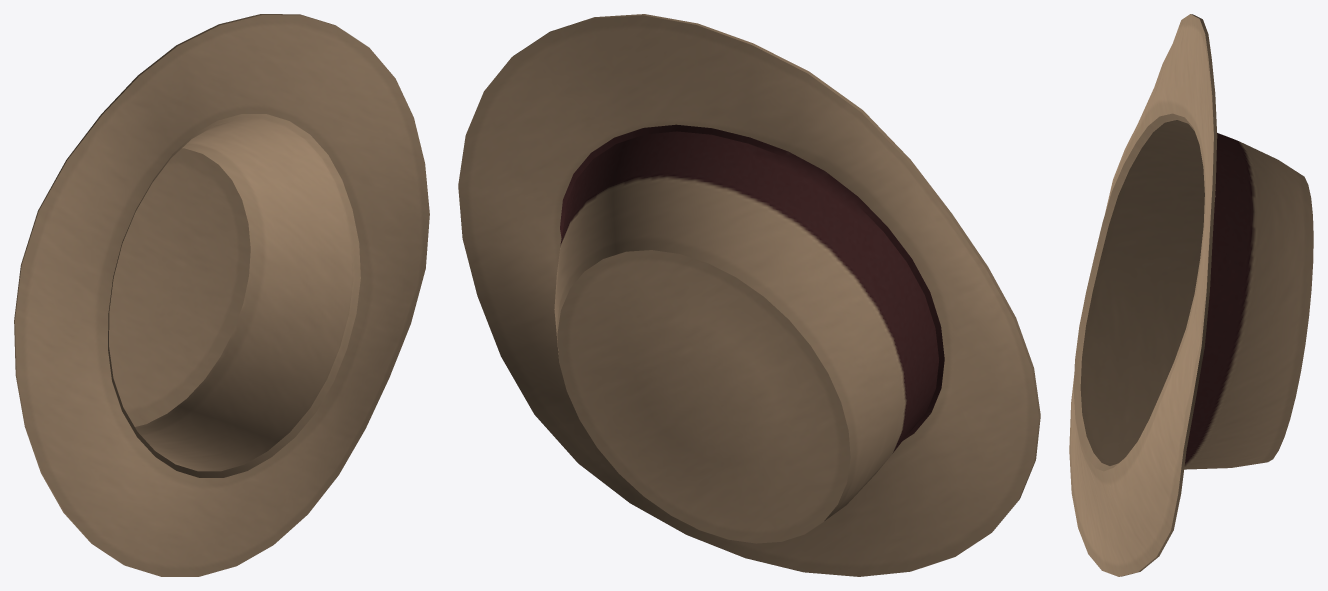
Rendered from hat.obj.
3 views of the same model, side by side, from view 1: azimuth 30°, elevation 25°; view 2: azimuth 150°, elevation 25°; view 3: azimuth 270°, elevation 25° (orthographic). The views are drawn at different scales.
Parts seen in each view (by area): view 1: dynamic; view 2: dynamic; view 3: dynamic.
Boxes of the visible parts, x1,y1,x2,y2 form: dynamic: [14, 14, 429, 576]; dynamic: [458, 14, 1040, 576]; dynamic: [1069, 14, 1313, 576].
Bounding box in the file's own units: 31.33 × 32.97 × 13.52.
Materials: 1 (1 with a texture image).
